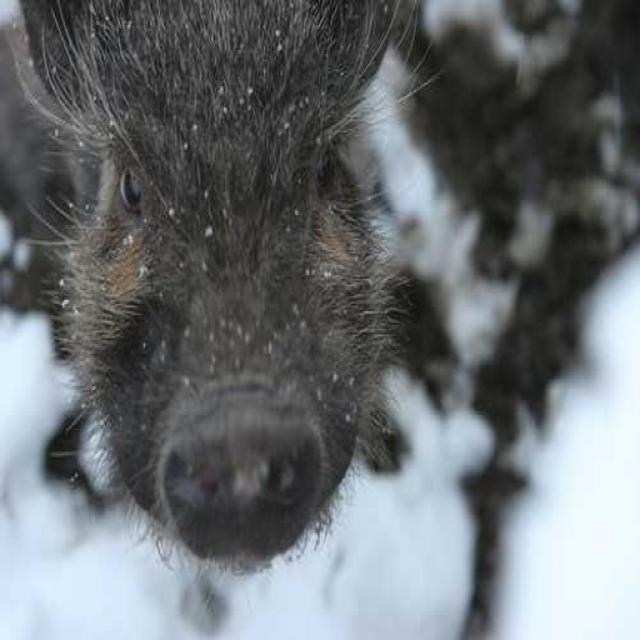pig: (0, 0, 477, 616)
